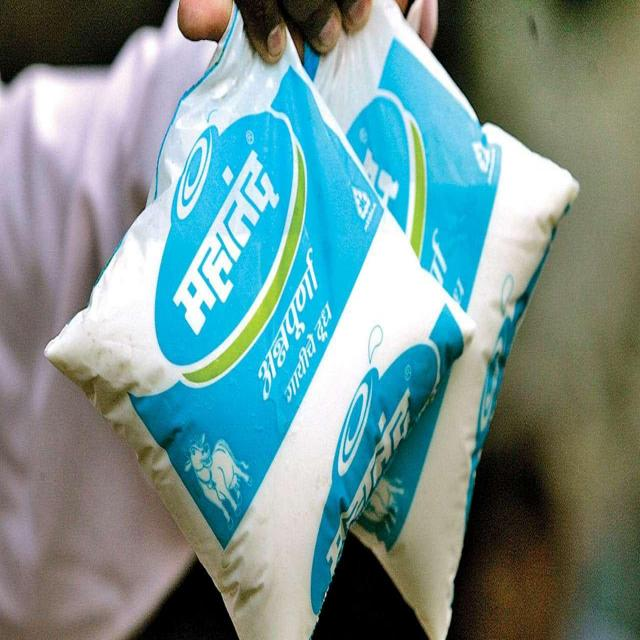plastic_bag: (53, 13, 466, 640), (310, 3, 575, 640)
